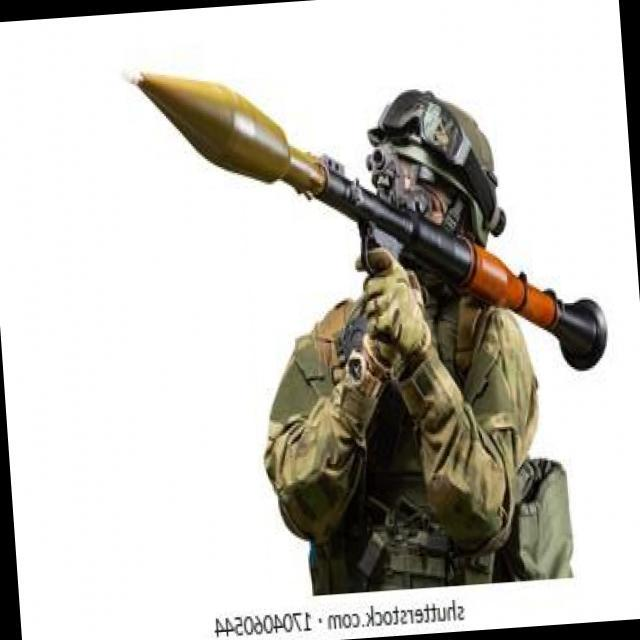rocket: (131, 39, 613, 404)
